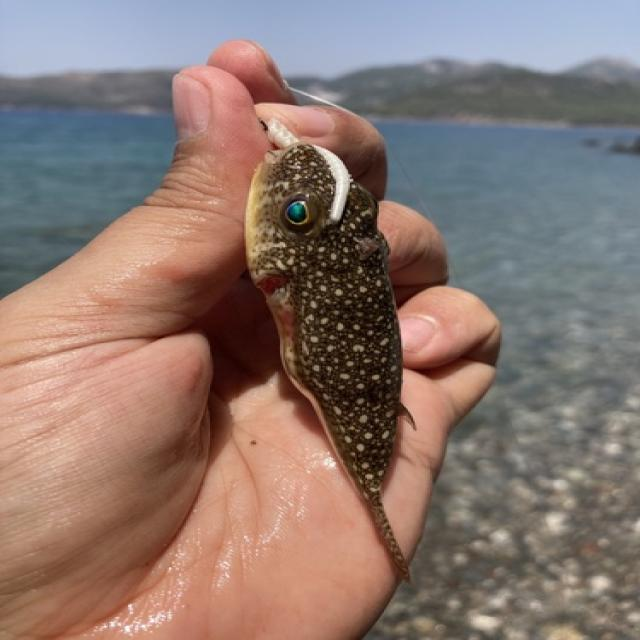Balik: (246, 121, 411, 581)
